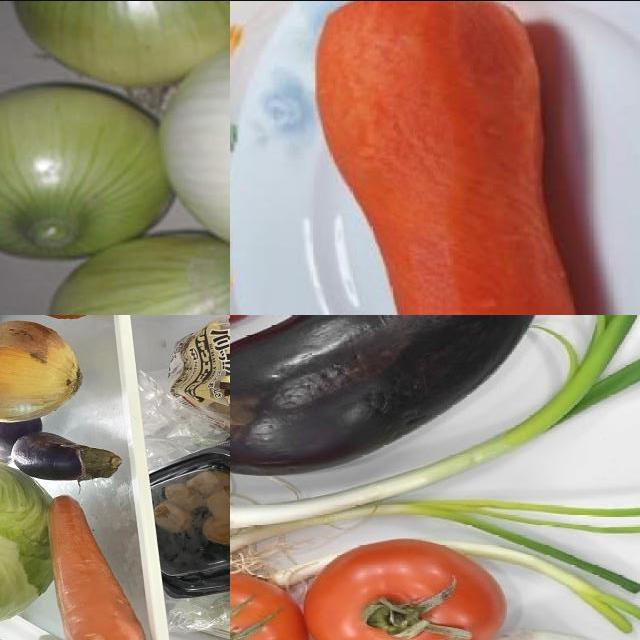cabbage: (1, 465, 54, 625)
carrot: (297, 1, 591, 315), (51, 488, 148, 640)
eggplant: (231, 315, 547, 473), (13, 433, 123, 481), (1, 415, 42, 461)
onion: (1, 83, 171, 267), (44, 213, 231, 315), (158, 28, 231, 261), (8, 1, 231, 75), (1, 321, 79, 421)
tomato: (300, 542, 492, 640), (231, 574, 305, 640)
